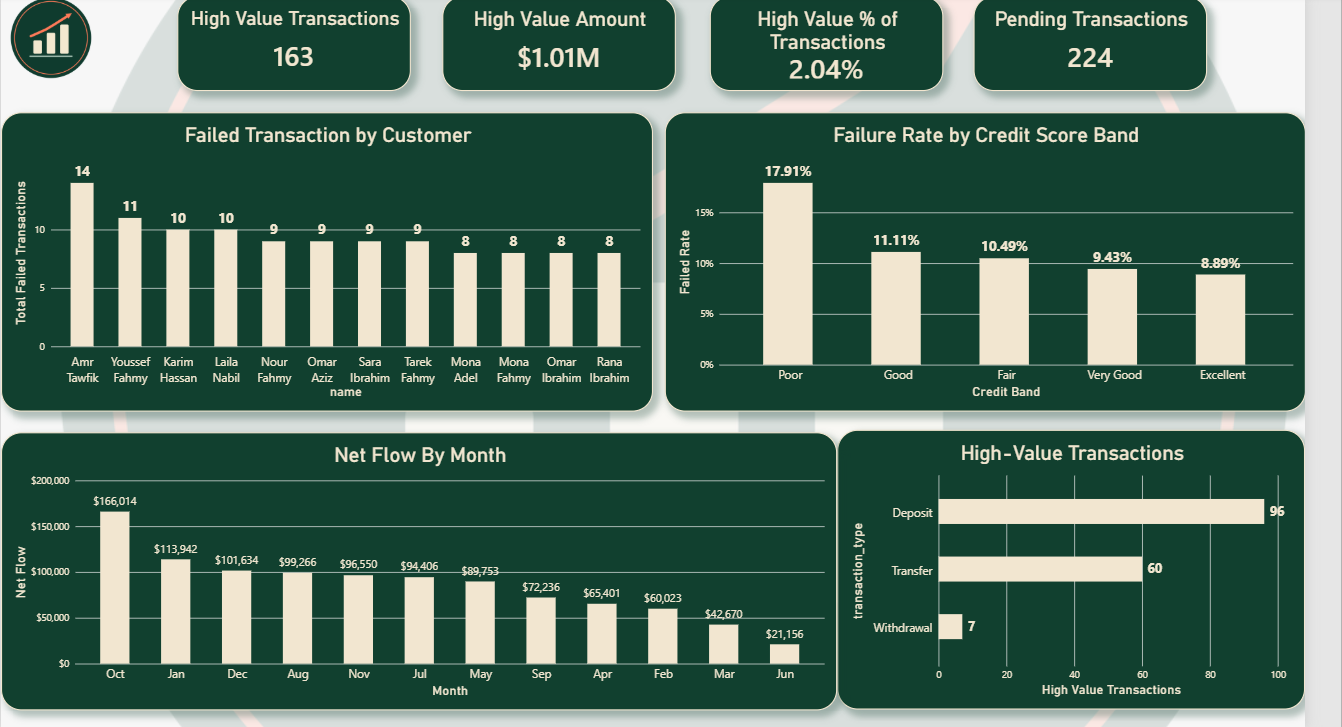

The dashboard page shown, as its layout file describes it:
{"tool":"powerbi","page":{"name":"Risk and Anomalies","canvas":[1920,1080],"ordinal":7},"visuals":[{"type":"image","box":[0,0,147.2,123.3],"z":0},{"type":"card","title":"High Value % of Transactions","fields":{"Values":["\"Measures\".High Value % of Transactions"]},"box":[1043,0,344,139.9],"z":1},{"type":"card","title":"High Value Amount","fields":{"Values":["\"Measures\".High Value Amount"]},"box":[649.8,0,344,139.9],"z":2},{"type":"card","title":"High Value Transactions","fields":{"Values":["\"Measures\".High Value Transactions"]},"box":[258.7,0,344,139.9],"z":3},{"type":"clusteredBarChart","title":"High-Value Transactions ","fields":{"Category":["fact_transactions.transaction_type"],"Y":["\"Measures\".High Value Transactions"]},"box":[1231.3,639.5,689.1,411.8],"z":4},{"type":"clusteredColumnChart","title":"Failed Transaction by Customer","fields":{"Category":["dim_customer.name"],"Y":["\"Measures\".Total Failed Transactions"]},"box":[0,171.8,960.2,440.8],"z":5},{"type":"card","title":"Pending Transactions","fields":{"Values":["\"Measures\".Total Pending Transactions"]},"box":[1432,0,344,139.9],"z":6},{"type":"clusteredColumnChart","title":"Net Flow By Month","fields":{"Category":["fact_transactions.Month"],"Y":["\"Measures\".Net Flow"]},"box":[0,641.5,1231.3,409.7],"z":7},{"type":"clusteredColumnChart","title":"Failure Rate by Credit Score Band","fields":{"Category":["dim_customer.Credit Band"],"Y":["\"Measures\".Failed Rate"]},"box":[976.8,171.8,943.7,440.8],"z":8}]}

Visuals, with their boxes on the page's 1920x1080 design canvas (x1, y1, x2, y2). These are canvas units, not pixel positions in the 1342x727 screenshot, which may show the page scaled, cropped or inside an application window:
image: <bbox>0, 0, 147, 123</bbox>
"High Value % of Transactions" card: <bbox>1043, 0, 1387, 140</bbox>
"High Value Amount" card: <bbox>650, 0, 994, 140</bbox>
"High Value Transactions" card: <bbox>259, 0, 603, 140</bbox>
"High-Value Transactions " clusteredBarChart: <bbox>1231, 640, 1920, 1051</bbox>
"Failed Transaction by Customer" clusteredColumnChart: <bbox>0, 172, 960, 613</bbox>
"Pending Transactions" card: <bbox>1432, 0, 1776, 140</bbox>
"Net Flow By Month" clusteredColumnChart: <bbox>0, 642, 1231, 1051</bbox>
"Failure Rate by Credit Score Band" clusteredColumnChart: <bbox>977, 172, 1920, 613</bbox>
